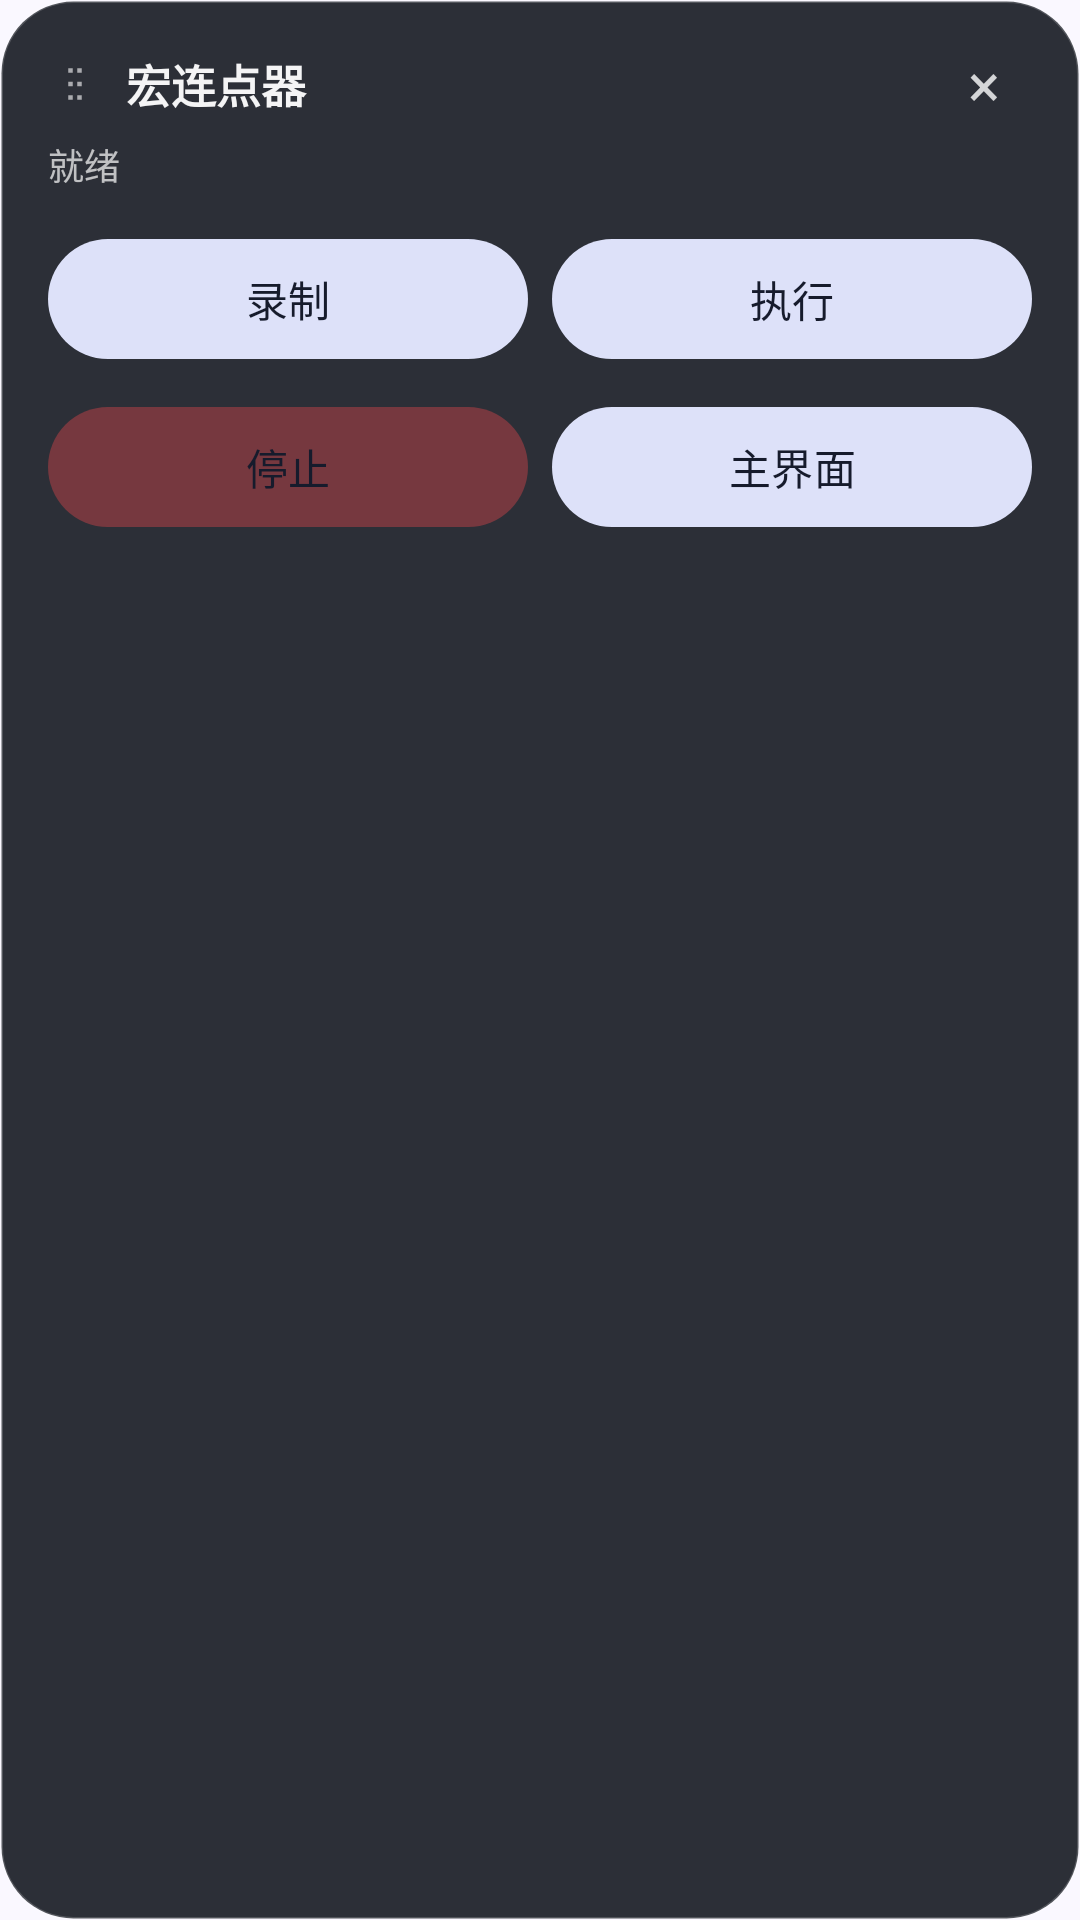

Icon bounding boxes for this 1080x1920 phone screenshot, format (x1, y1, x2, y2):
拖动面板: (68, 68, 82, 100)
